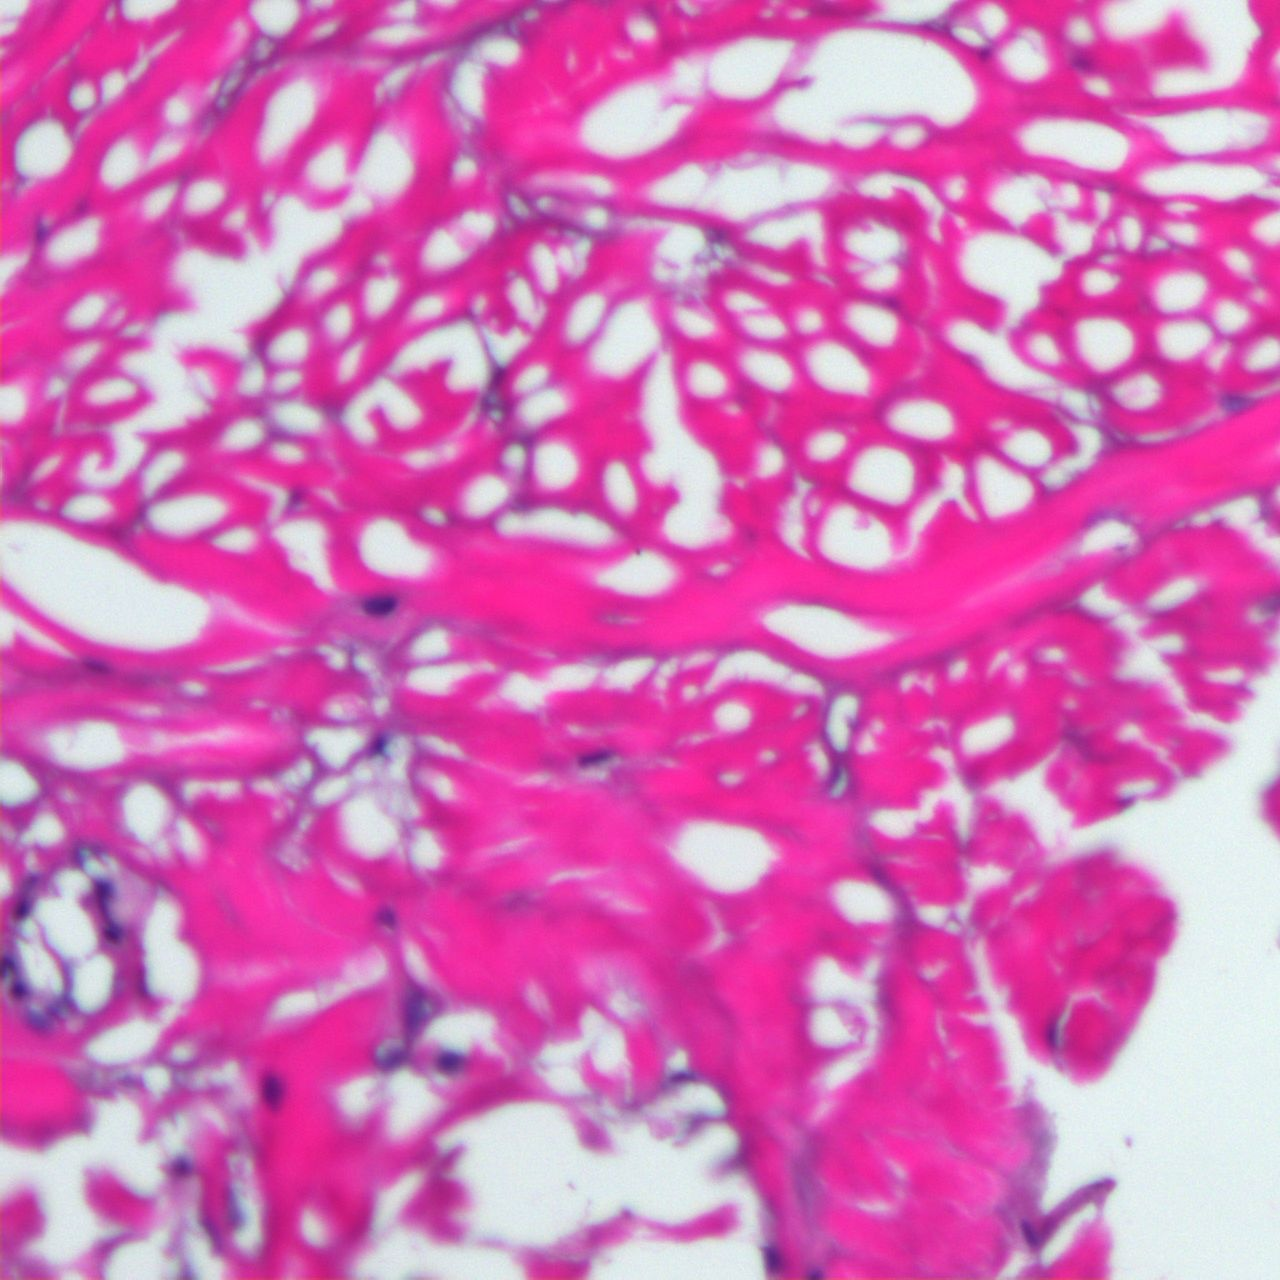nucleus-HE: (258, 1073, 287, 1107), (363, 595, 399, 615), (438, 1050, 459, 1070), (765, 1244, 779, 1272)
